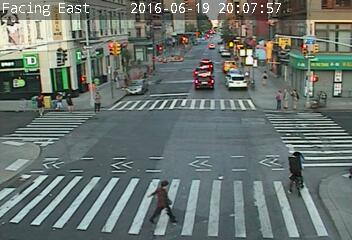neg: (281, 146, 321, 199), (143, 110, 166, 141), (12, 126, 34, 154), (186, 132, 207, 160), (19, 180, 40, 208), (214, 181, 233, 205), (239, 115, 257, 140), (100, 194, 117, 217), (22, 44, 39, 67), (60, 38, 77, 60), (198, 68, 214, 90), (161, 49, 177, 71), (103, 126, 119, 146), (50, 153, 65, 173), (231, 56, 246, 76), (136, 74, 151, 93), (320, 93, 331, 107), (309, 56, 319, 71)
pos: (147, 176, 183, 225), (90, 88, 109, 113), (33, 93, 49, 114), (288, 87, 304, 108), (279, 86, 295, 107), (61, 90, 76, 110), (52, 90, 67, 110), (271, 90, 285, 110), (259, 68, 271, 85)
